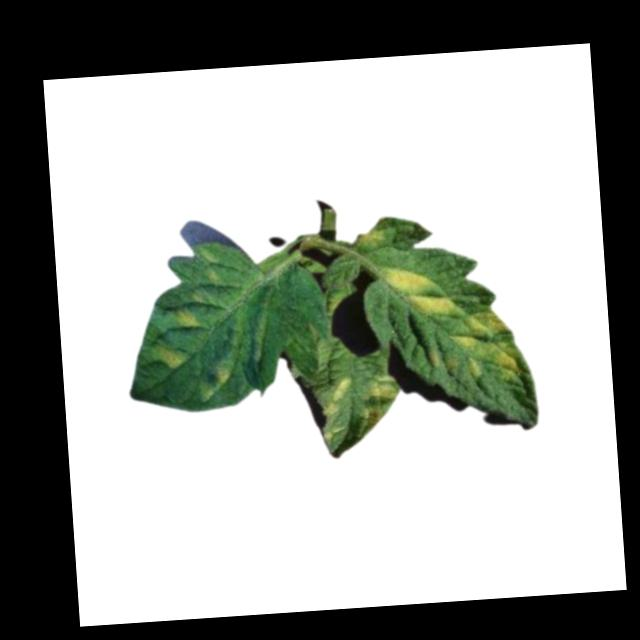Leaf_Mold: (445, 308, 518, 393), (379, 265, 454, 321), (356, 374, 403, 433), (318, 375, 354, 439), (353, 226, 388, 251), (154, 344, 186, 371), (172, 305, 197, 330), (210, 361, 233, 388)
